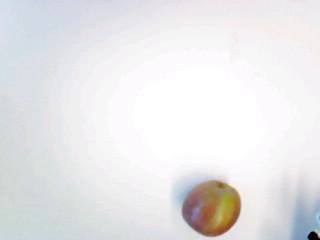apple: (176, 178, 241, 236)
